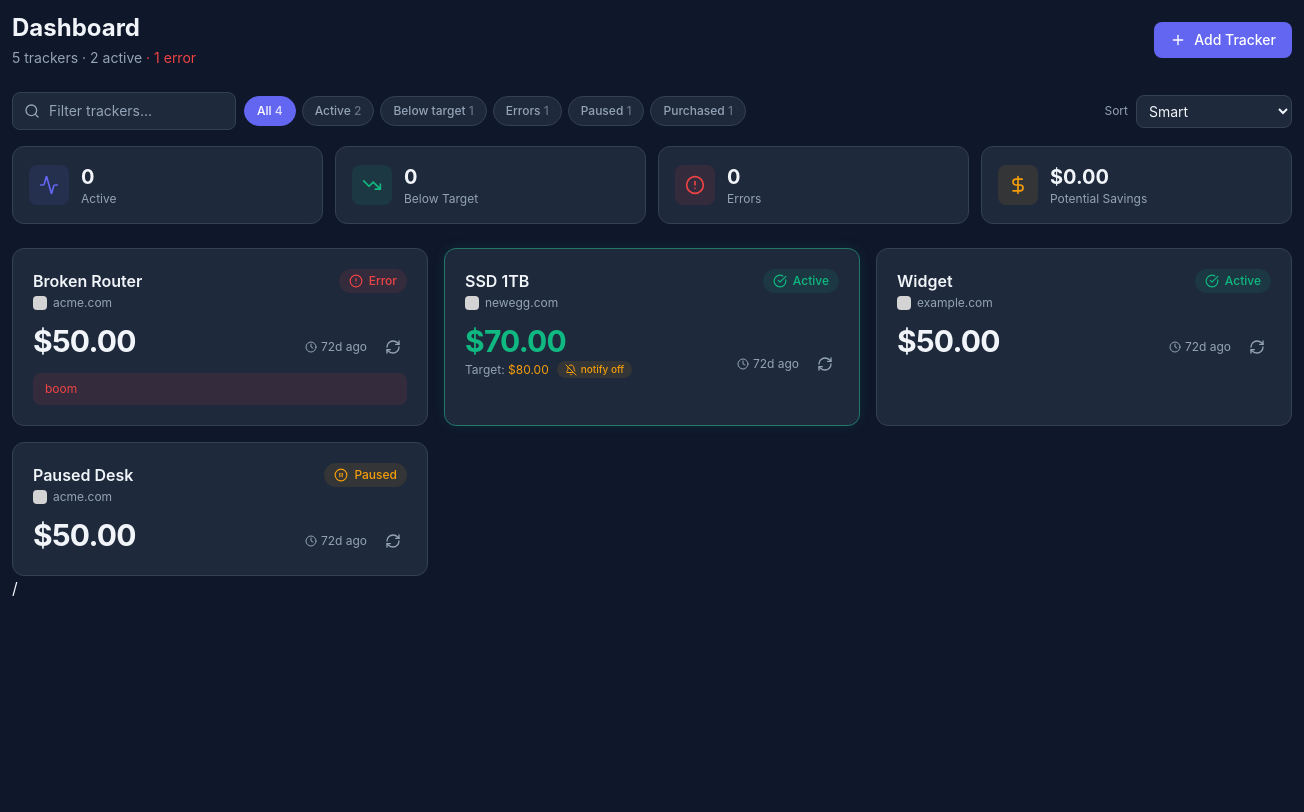
Test: Dashboard › toolbar › purchased chip replaces the old checkbox
Check: the heading "Dashboard" is shown, box [12,13,140,42]
Check: the text "Bought Chair" is not shown
Click the button "Purchased 1": click(698, 111) [650,96,746,126]
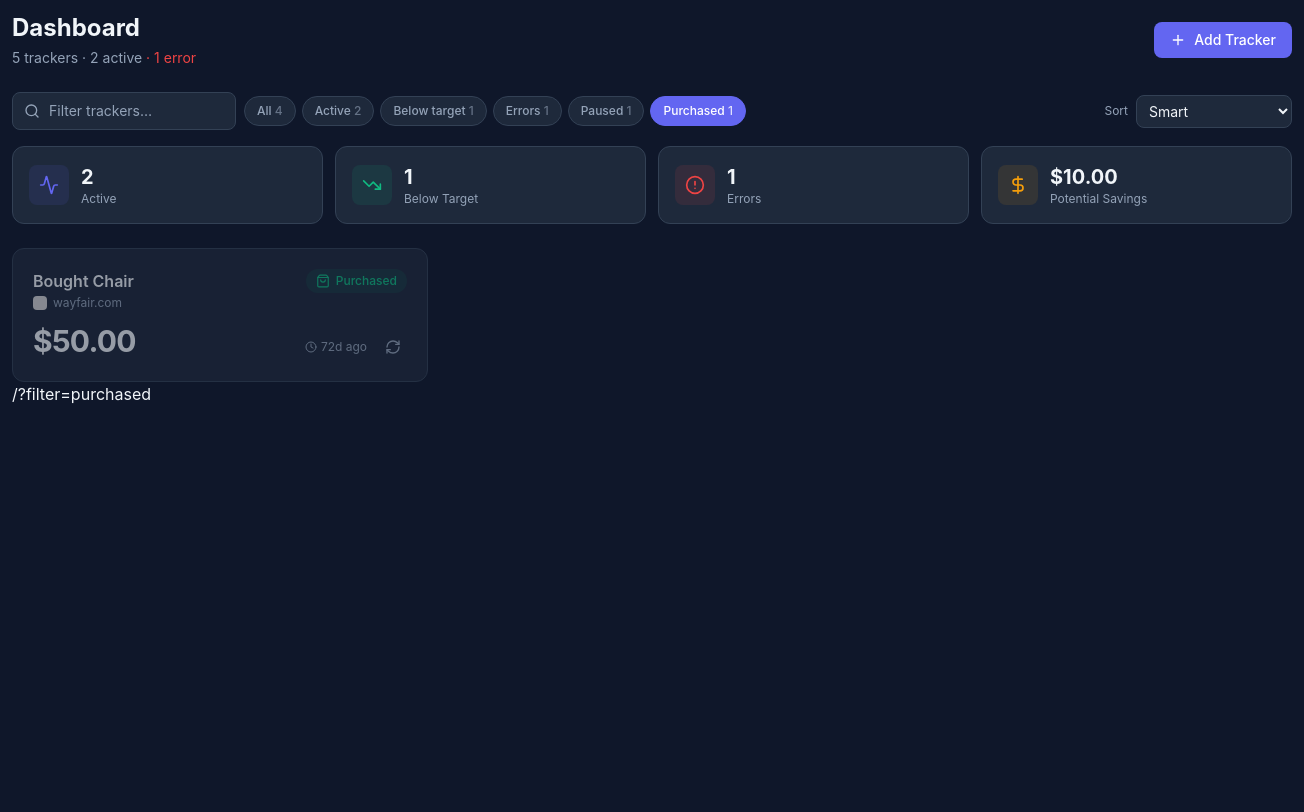
Check: the heading "Bought Chair" is shown, box [33,269,134,293]
